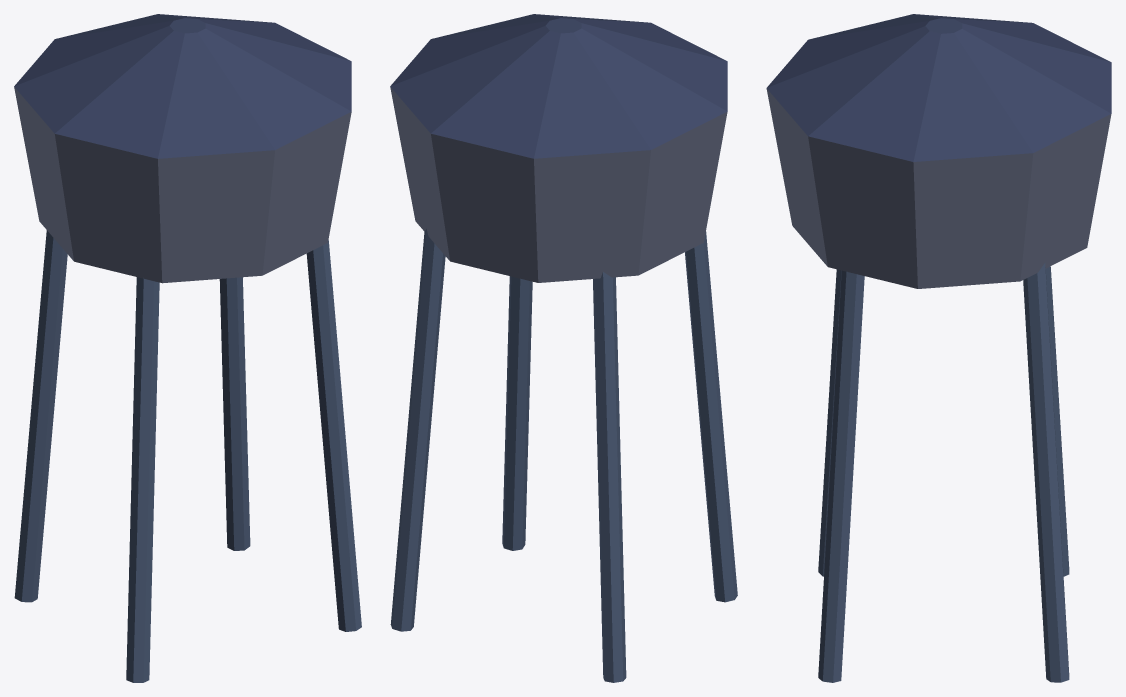
File: water-tower.glb
The picture shows the model from 3 angles, left to right: view 1: azimuth 30°, elevation 25°; view 2: azimuth 150°, elevation 25°; view 3: azimuth 270°, elevation 25°; orthographic projection. The views are drawn at different scales.
Parts seen in each view (by area): view 1: water-tower; view 2: water-tower; view 3: water-tower.
Boxes of the visible parts, x1,y1,x2,y2 form: water-tower: (14,14,361,682); water-tower: (390,14,737,682); water-tower: (766,14,1111,682).
Size of the model in its own units: 4.61 by 8.71 by 4.54.
